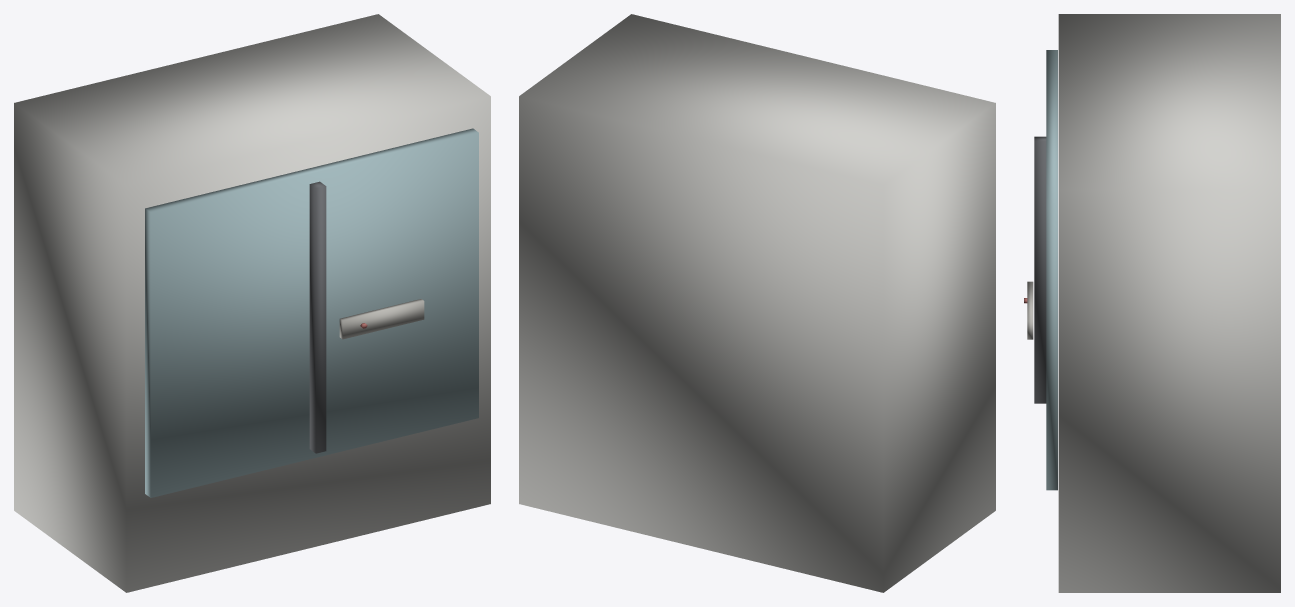
File: refrigerated_display_case__squat.glb
3 renders of one model, left to right at view 1: azimuth 30°, elevation 25°; view 2: azimuth 150°, elevation 25°; view 3: azimuth 270°, elevation 25°, orthographic.
Visible parts, largest first — view 1: world; view 2: world; view 3: world.
Part boxes in pixels (x1,y1,x2,y2): world: [14, 14, 490, 592]; world: [519, 14, 995, 592]; world: [1024, 14, 1280, 592].
Size of the model in its own units: 1.38 by 1.47 by 0.8489.
